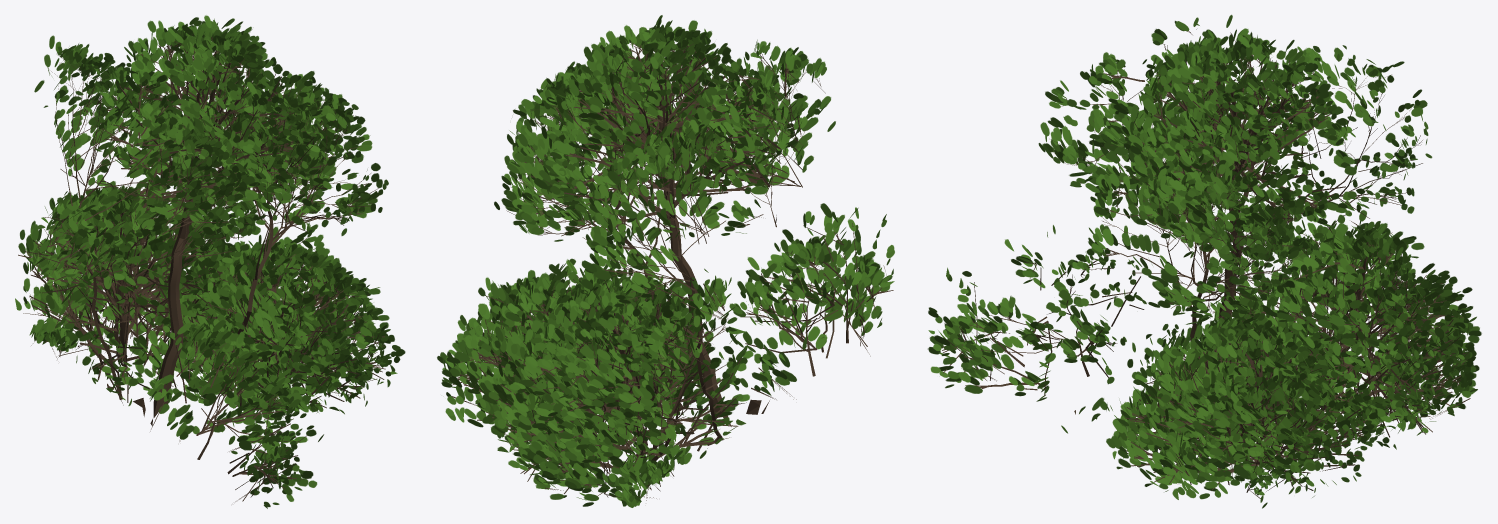
3 renders of one model, left to right at view 1: azimuth 30°, elevation 25°; view 2: azimuth 150°, elevation 25°; view 3: azimuth 270°, elevation 25°, orthographic. The views are drawn at different scales.
Parts seen in each view (by area): view 1: oak 01.001_trunk_Mat.001_0.498; view 2: oak 01.001_trunk_Mat.001_0.498; view 3: oak 01.001_trunk_Mat.001_0.498.
Part boxes in pixels (x1,y1,x2,y2): oak 01.001_trunk_Mat.001_0.498: [15, 15, 405, 508]; oak 01.001_trunk_Mat.001_0.498: [437, 15, 894, 507]; oak 01.001_trunk_Mat.001_0.498: [927, 14, 1481, 508].
Bounding box in the file's own units: 2.58 × 3.32 × 4.17.
Materials: 2 (1 with a texture image).
